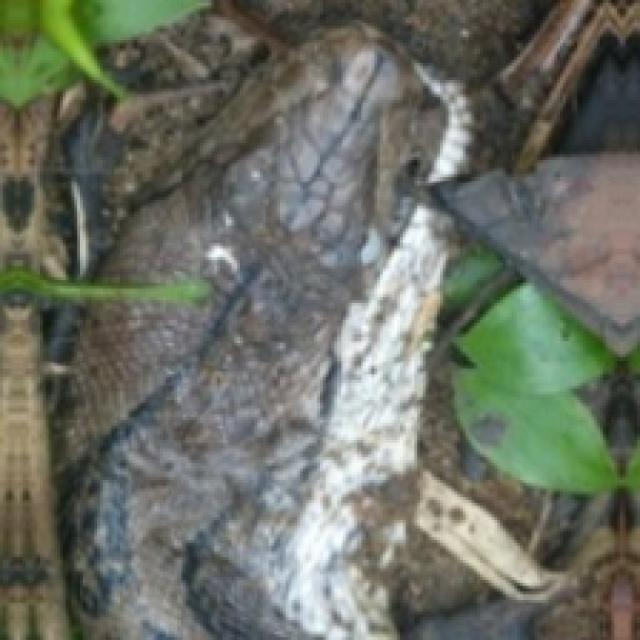reticulated python: (49, 9, 469, 637), (51, 11, 469, 637)
